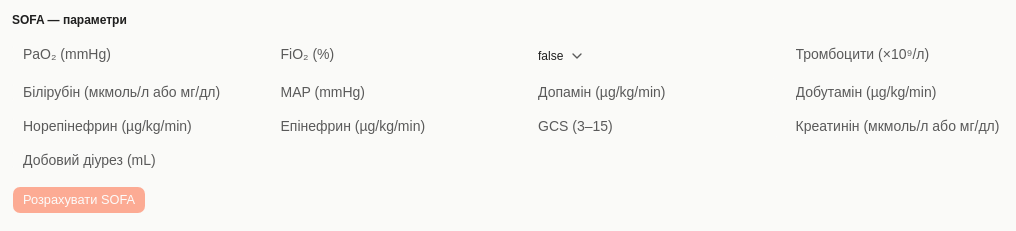
Test: SofaForm › button is enabled when at least one field is filled
This screenshot has width=1016, height=231.
Type "80" into the field with placeholder "PaO₂ (mmHg)" at {"x": 138, "y": 54}, box [12,40,264,68]
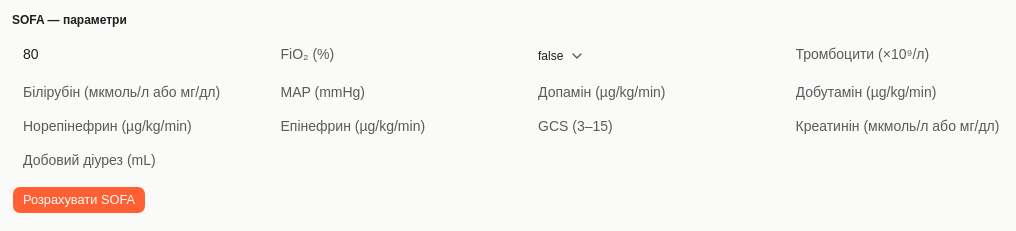
Expected: the button "Розрахувати SOFA" is enabled, [12,186,146,214]
